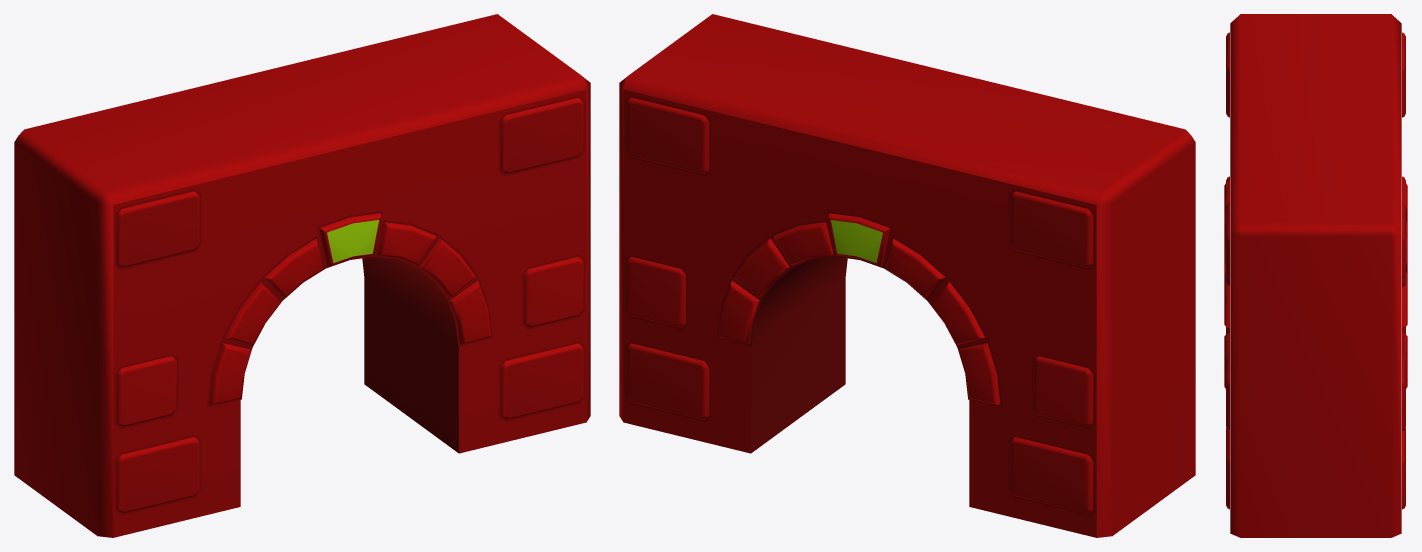
File: kemer.glb
The picture shows the model from 3 angles, left to right: view 1: azimuth 30°, elevation 25°; view 2: azimuth 150°, elevation 25°; view 3: azimuth 270°, elevation 25°; orthographic projection. The views are drawn at different scales.
Visible parts, largest first — view 1: kemer; view 2: kemer; view 3: kemer.
Boxes of the visible parts, bbox=[...] form: kemer: bbox=[14, 14, 590, 537]; kemer: bbox=[619, 14, 1195, 537]; kemer: bbox=[1224, 14, 1407, 537].
Size of the model in its own units: 4.62 by 3.08 by 1.64.
